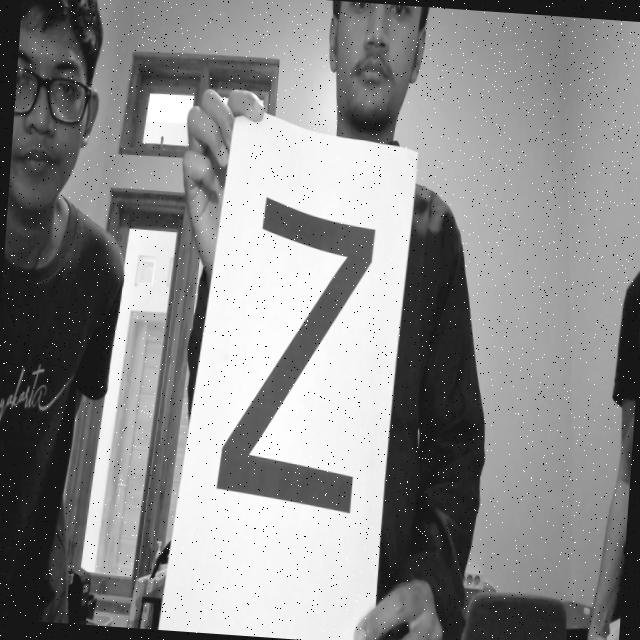z: (205, 176, 384, 534)
